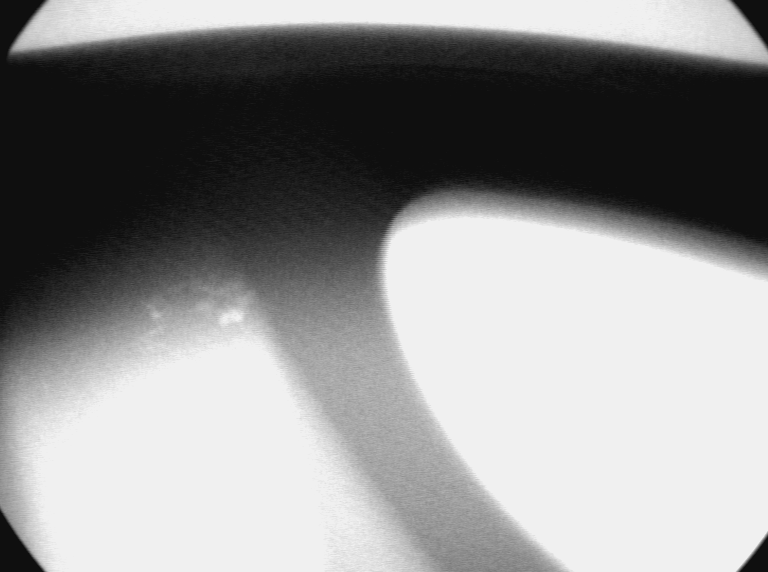defect: (130, 269, 260, 346)
